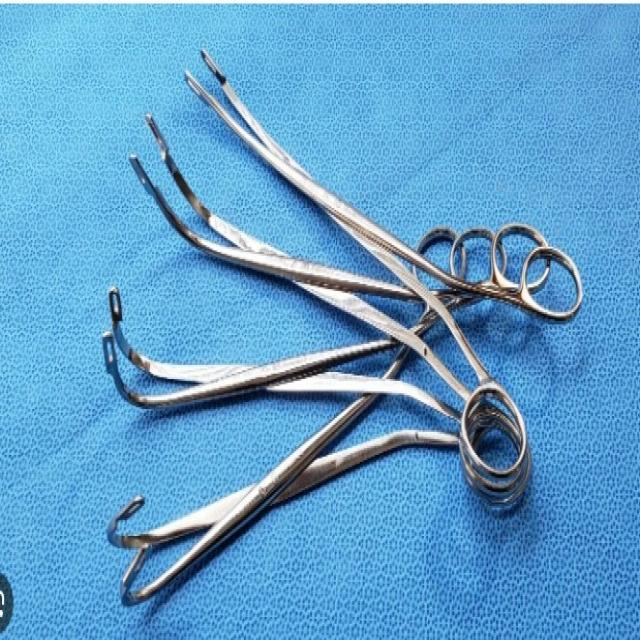Randall: (44, 229, 551, 609), (119, 102, 567, 502), (84, 262, 554, 474)
